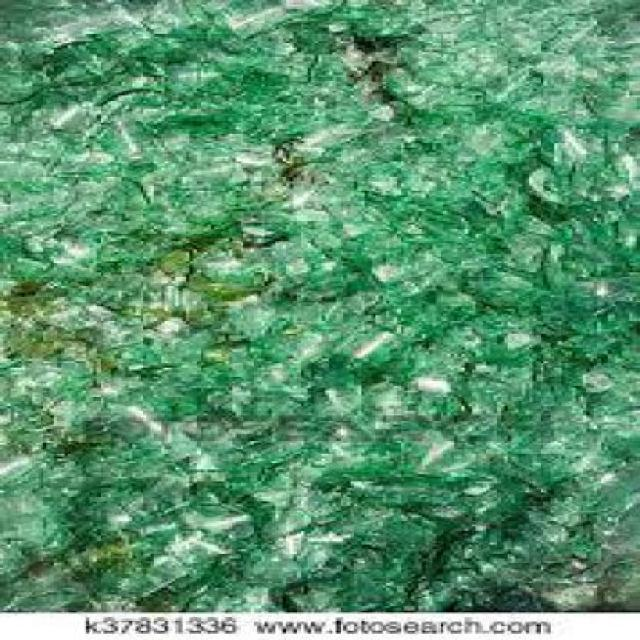kaca: (0, 0, 637, 611), (129, 148, 637, 472), (365, 225, 637, 477), (208, 138, 586, 277), (0, 392, 205, 602), (337, 62, 637, 205), (105, 409, 380, 545), (0, 105, 197, 288), (408, 477, 637, 603), (149, 0, 429, 100), (46, 270, 243, 402), (175, 18, 343, 140), (383, 12, 637, 85), (0, 0, 162, 103), (378, 545, 637, 606)
